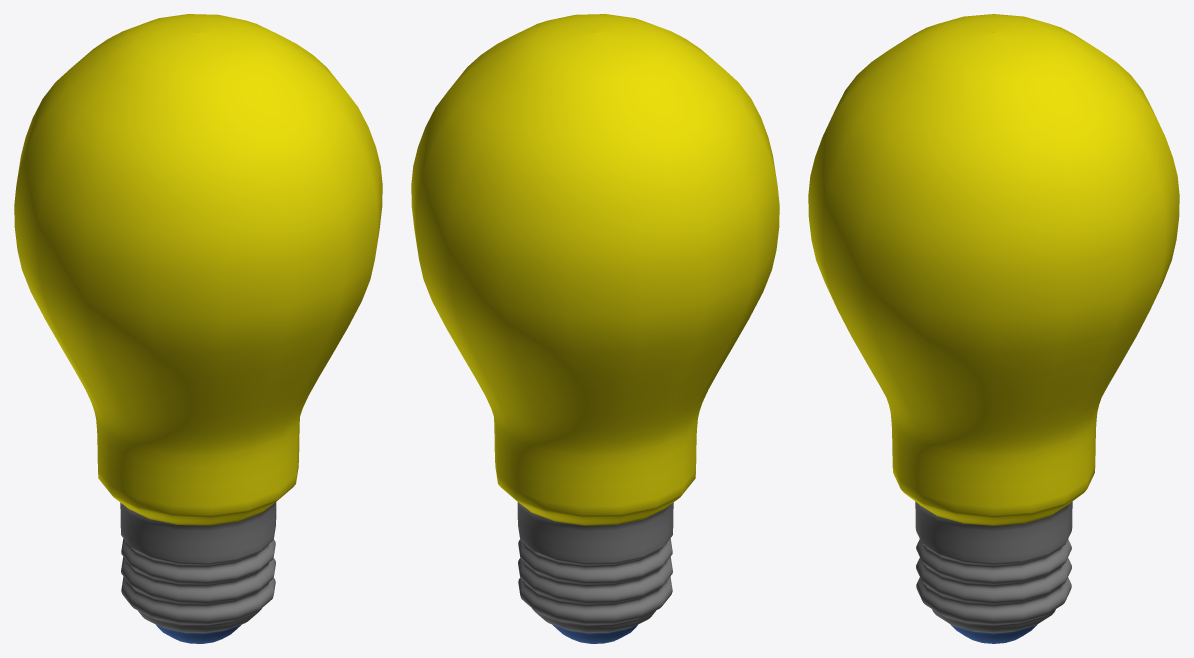
The model's file is ciencias_sociales.fbx.
The picture shows the model from 3 angles, left to right: view 1: azimuth 30°, elevation 25°; view 2: azimuth 150°, elevation 25°; view 3: azimuth 270°, elevation 25°; orthographic projection.
Visible parts, largest first — view 1: bombillo; view 2: bombillo; view 3: bombillo.
Boxes of the visible parts, x1,y1,x2,y2 form: bombillo: (14,14,382,643); bombillo: (411,14,779,643); bombillo: (808,14,1179,643).
Bounding box in the file's own units: 225 × 406 × 225.
